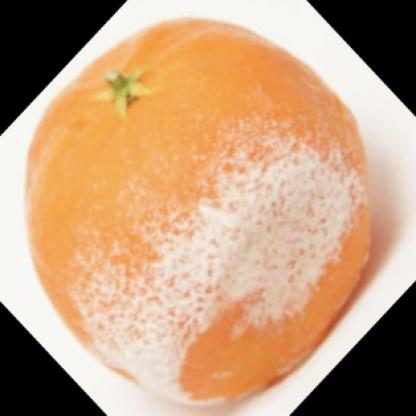rotten: (25, 18, 372, 405)
